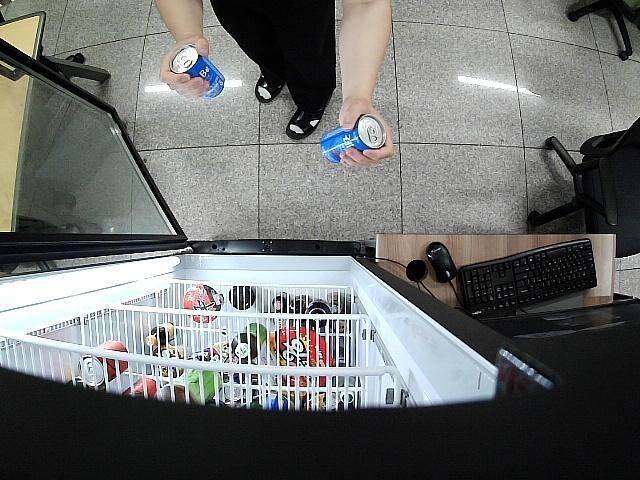15_letsbe: (321, 114, 386, 163), (170, 44, 224, 100)
